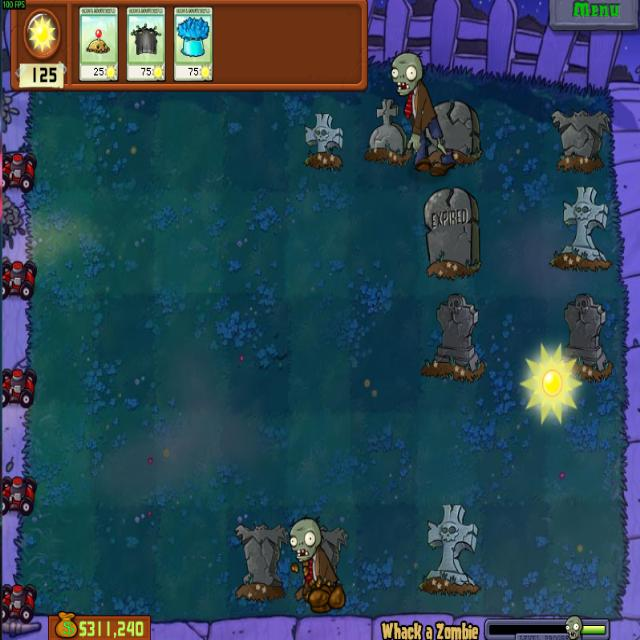grave: (419, 291, 486, 384), (417, 500, 480, 598), (421, 183, 481, 281), (550, 183, 612, 273), (556, 291, 612, 382), (231, 520, 288, 603), (421, 97, 483, 167), (550, 105, 611, 175), (297, 518, 348, 596), (363, 96, 412, 167), (298, 110, 348, 170)
gravebuster: (126, 5, 166, 82)
zombie: (286, 515, 323, 561), (387, 51, 424, 96)
